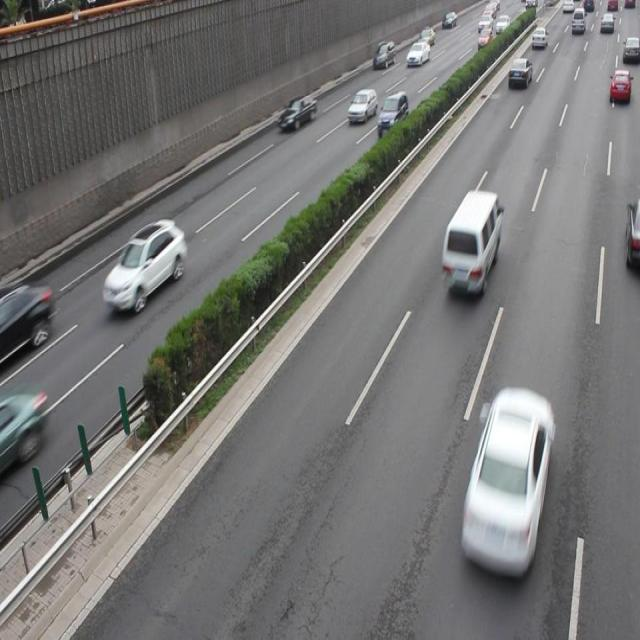car: (457, 388, 553, 583), (103, 219, 186, 313), (0, 276, 52, 366), (1, 390, 48, 486), (277, 92, 316, 133), (376, 91, 408, 139), (346, 86, 377, 125), (624, 199, 640, 272)
truck: (438, 188, 500, 298)
